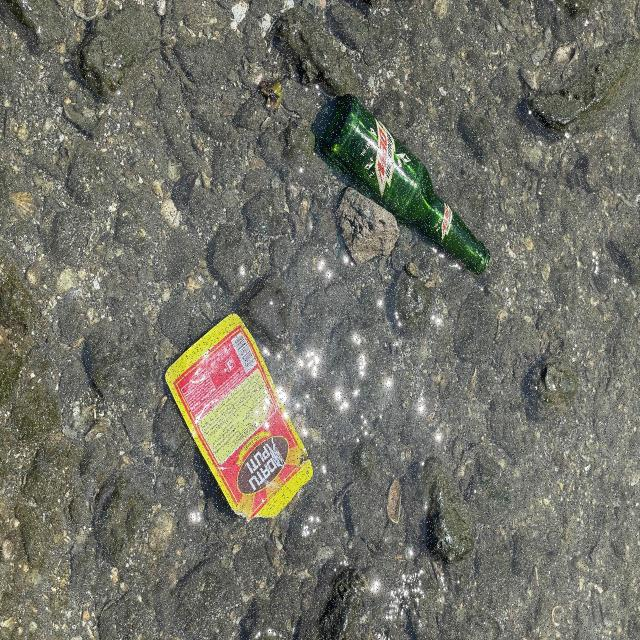glass_waste: (323, 95, 492, 277)
plastic_waste: (166, 315, 315, 523)
